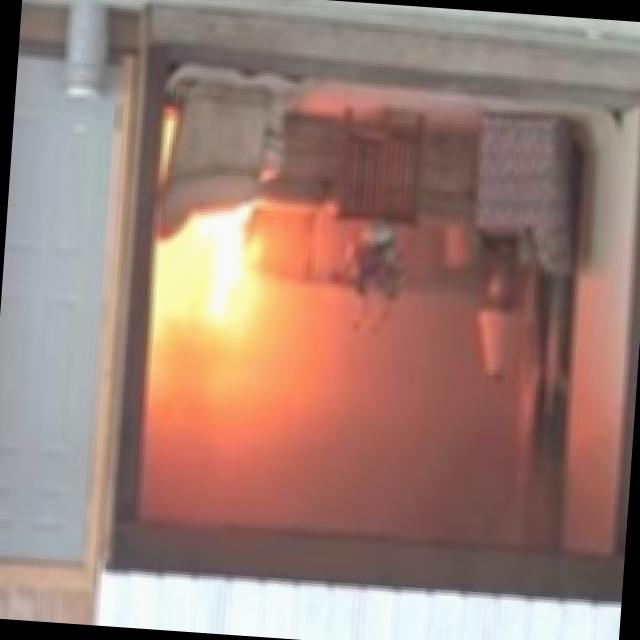fire: (178, 232, 260, 357)
